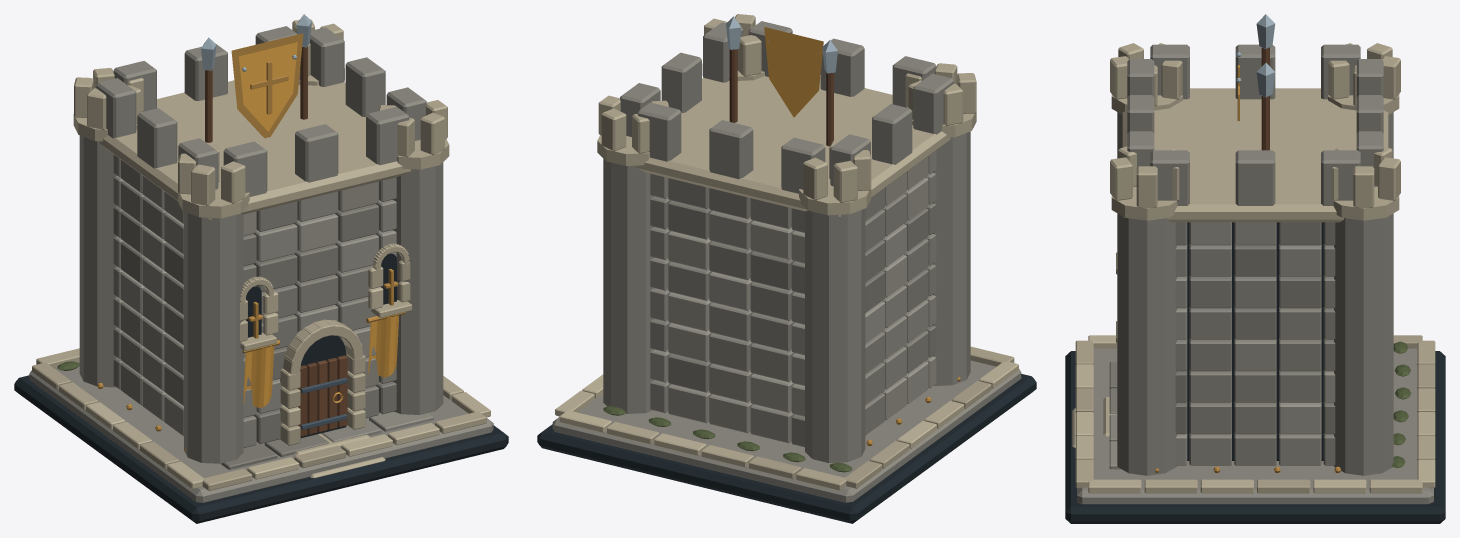
File: militia__guardiao__L10.glb
3 renders of one model, left to right at view 1: azimuth 30°, elevation 25°; view 2: azimuth 150°, elevation 25°; view 3: azimuth 270°, elevation 25°, orthographic. The views are drawn at different scales.
Parts seen in each view (by area): view 1: structure, weapon, banners; view 2: structure, weapon; view 3: structure, weapon.
Part boxes in pixels (left/top/right/bottom): structure: left=14, top=19, right=508, bottom=523; weapon: left=201, top=14, right=311, bottom=142; banners: left=242, top=312, right=405, bottom=408; structure: left=537, top=14, right=1036, bottom=523; weapon: left=726, top=16, right=837, bottom=146; structure: left=1065, top=43, right=1445, bottom=523; weapon: left=1236, top=14, right=1275, bottom=150.
Bounding box in the file's own units: 0.803 × 0.9504 × 0.803.
